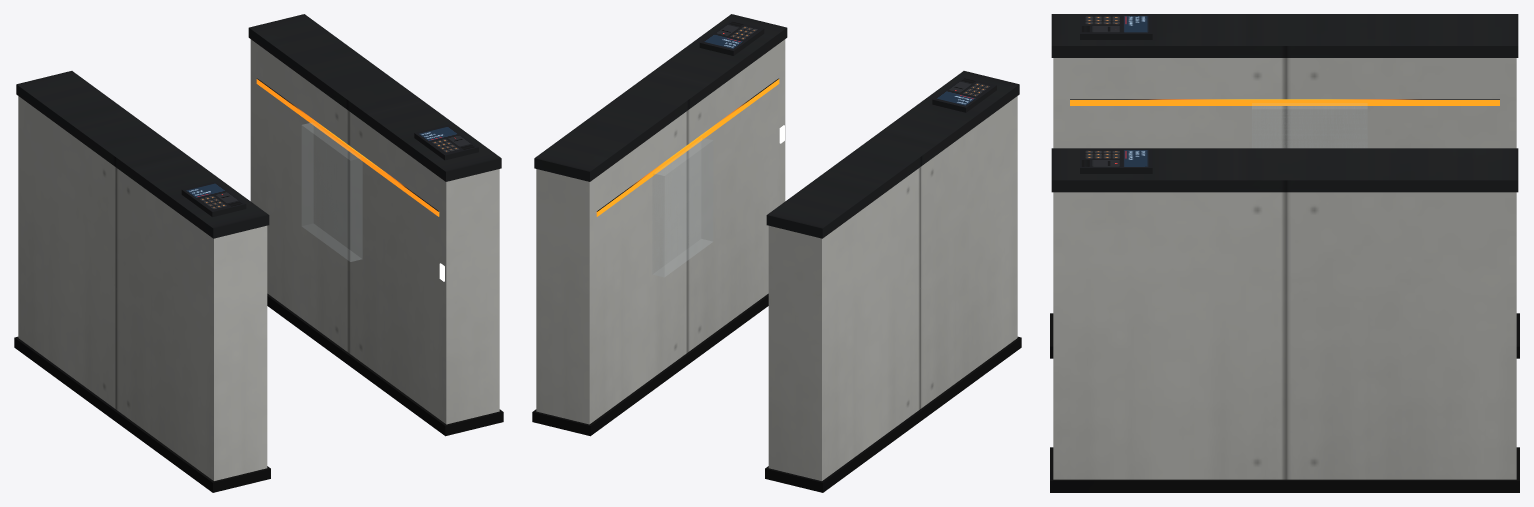
The model's file is SM_LFD_SpeedGate_Pair.fbx.
The picture shows the model from 3 angles, left to right: view 1: azimuth 30°, elevation 25°; view 2: azimuth 150°, elevation 25°; view 3: azimuth 270°, elevation 25°; orthographic projection. The views are drawn at different scales.
Visible parts, largest first — view 1: SM_LFD_SpeedGate_Pair_LOD0; view 2: SM_LFD_SpeedGate_Pair_LOD0; view 3: SM_LFD_SpeedGate_Pair_LOD0.
Part boxes in pixels (left/top/right/bottom): SM_LFD_SpeedGate_Pair_LOD0: left=14, top=14, right=503, bottom=492; SM_LFD_SpeedGate_Pair_LOD0: left=532, top=14, right=1021, bottom=492; SM_LFD_SpeedGate_Pair_LOD0: left=1050, top=14, right=1519, bottom=492.
Size of what is drawn, in the model's own units: 1.2 by 1.06 by 1.42.
